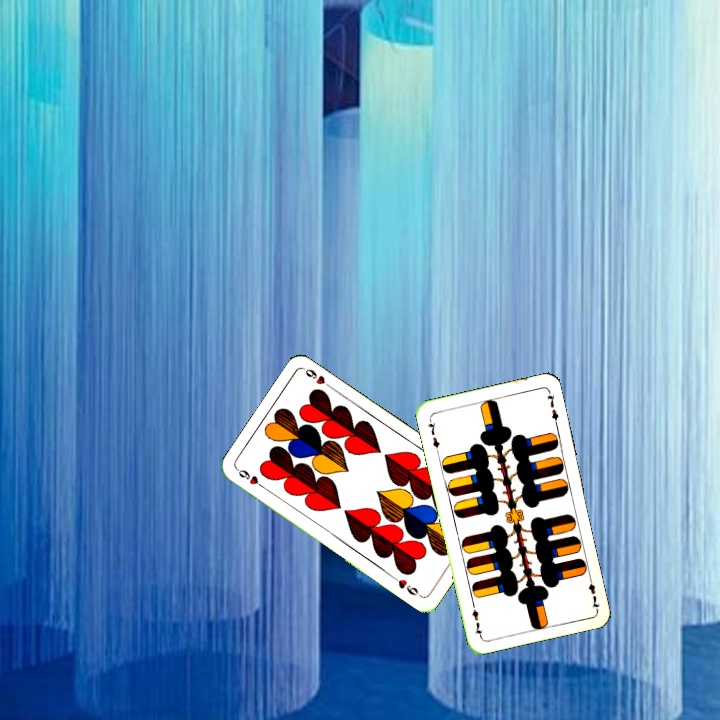E7: (424, 414, 442, 455), (584, 571, 602, 612)
H9: (233, 465, 269, 492)
